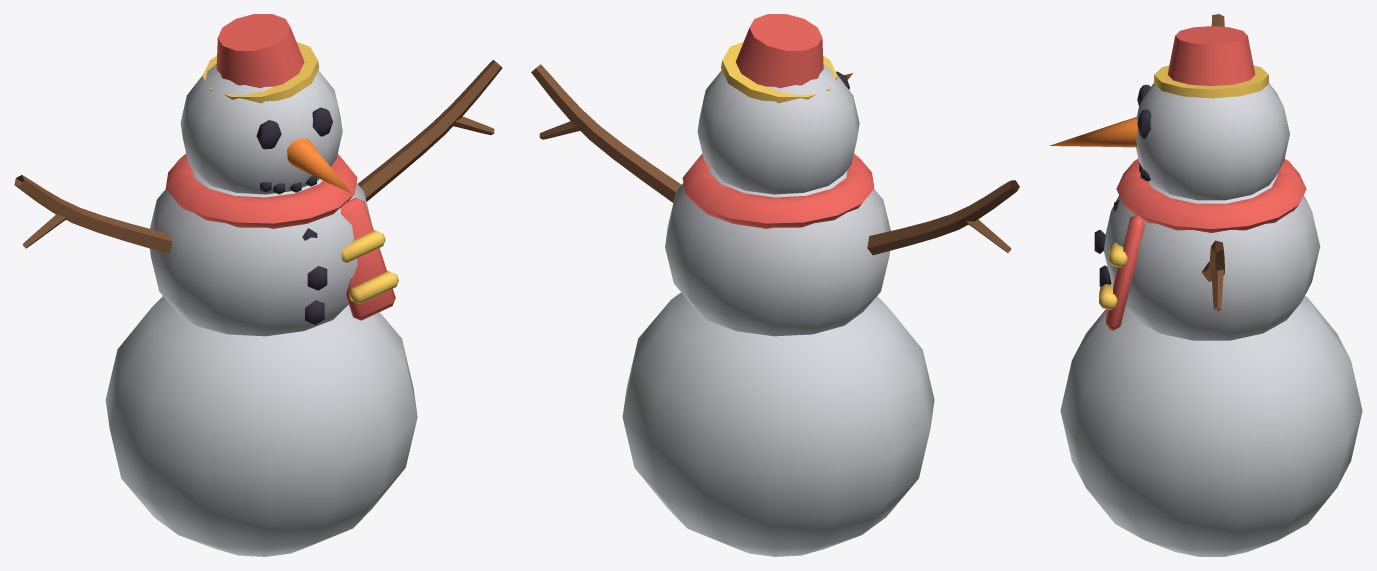
The model's file is snowman.glb.
3 views of the same model, side by side, from view 1: azimuth 30°, elevation 25°; view 2: azimuth 150°, elevation 25°; view 3: azimuth 270°, elevation 25° (orthographic).
Visible parts, largest first — view 1: snowman; view 2: snowman; view 3: snowman.
Part boxes in pixels (bbox=[...]): snowman: bbox=[14, 14, 502, 556]; snowman: bbox=[531, 14, 1019, 556]; snowman: bbox=[1049, 14, 1362, 556].
Bounding box in the file's own units: 1.83 × 1.86 × 1.04.
